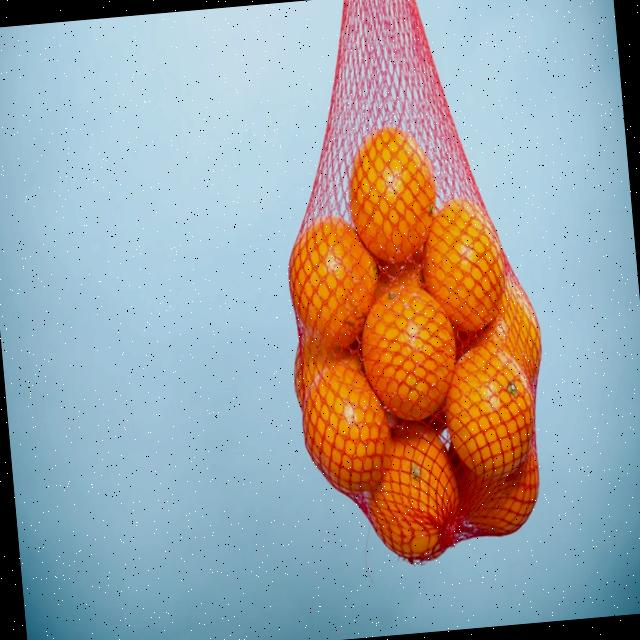orange: (356, 417, 466, 569), (294, 350, 394, 499), (358, 282, 459, 424), (342, 120, 442, 263), (440, 341, 539, 483), (422, 192, 512, 334)
